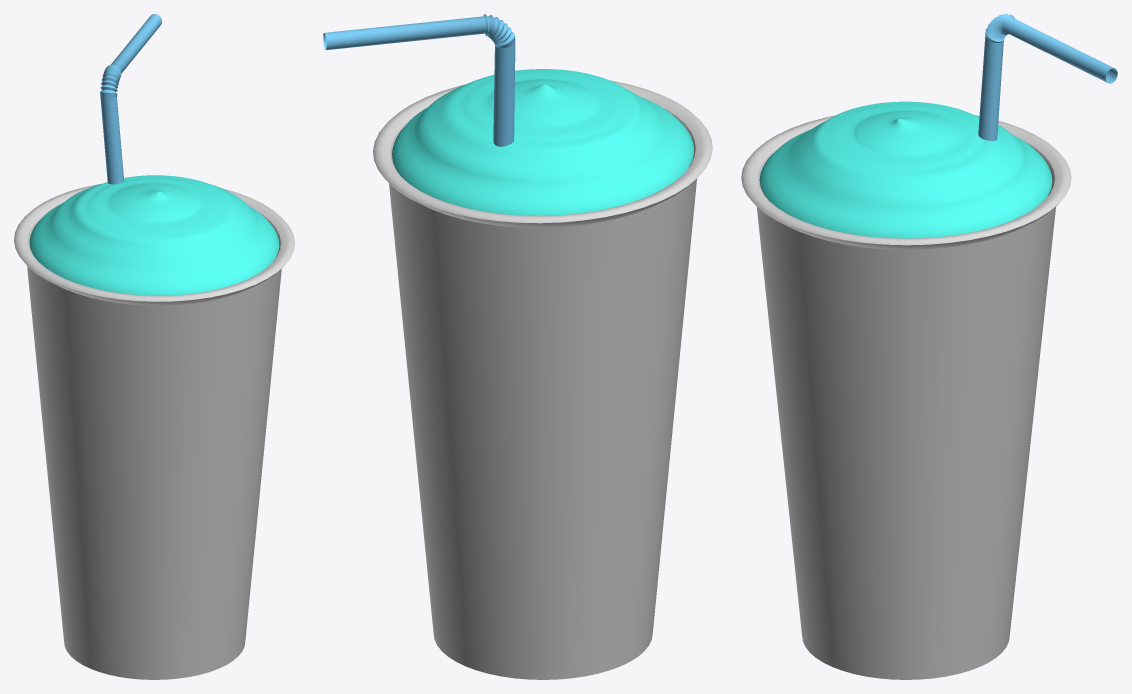
File: Slush.fbx
3 renders of one model, left to right at view 1: azimuth 30°, elevation 25°; view 2: azimuth 150°, elevation 25°; view 3: azimuth 270°, elevation 25°, orthographic. The views are drawn at different scales.
Visible parts, largest first — view 1: Cylinder002, Cylinder003, Cylinder004; view 2: Cylinder002, Cylinder003, Cylinder004; view 3: Cylinder002, Cylinder003, Cylinder004.
Part boxes in pixels (box(x1,y1,x2,y2)): Cylinder002: box(14, 184, 294, 679); Cylinder003: box(29, 175, 279, 295); Cylinder004: box(100, 14, 161, 184); Cylinder002: box(373, 80, 712, 679); Cylinder003: box(392, 69, 693, 215); Cylinder004: box(323, 14, 515, 146); Cylinder002: box(741, 115, 1071, 679); Cylinder003: box(759, 101, 1052, 238); Cylinder004: box(978, 14, 1117, 140).
Bounding box in the file's own units: 25.67 × 55.28 × 30.28.
